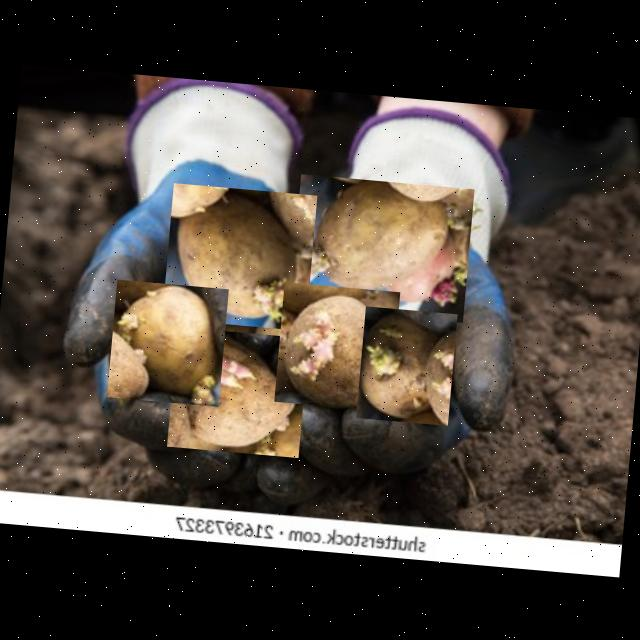Sprouted potato: (289, 174, 474, 322), (162, 182, 316, 330), (166, 327, 308, 458), (274, 282, 399, 412), (106, 279, 228, 406), (356, 306, 457, 426)
